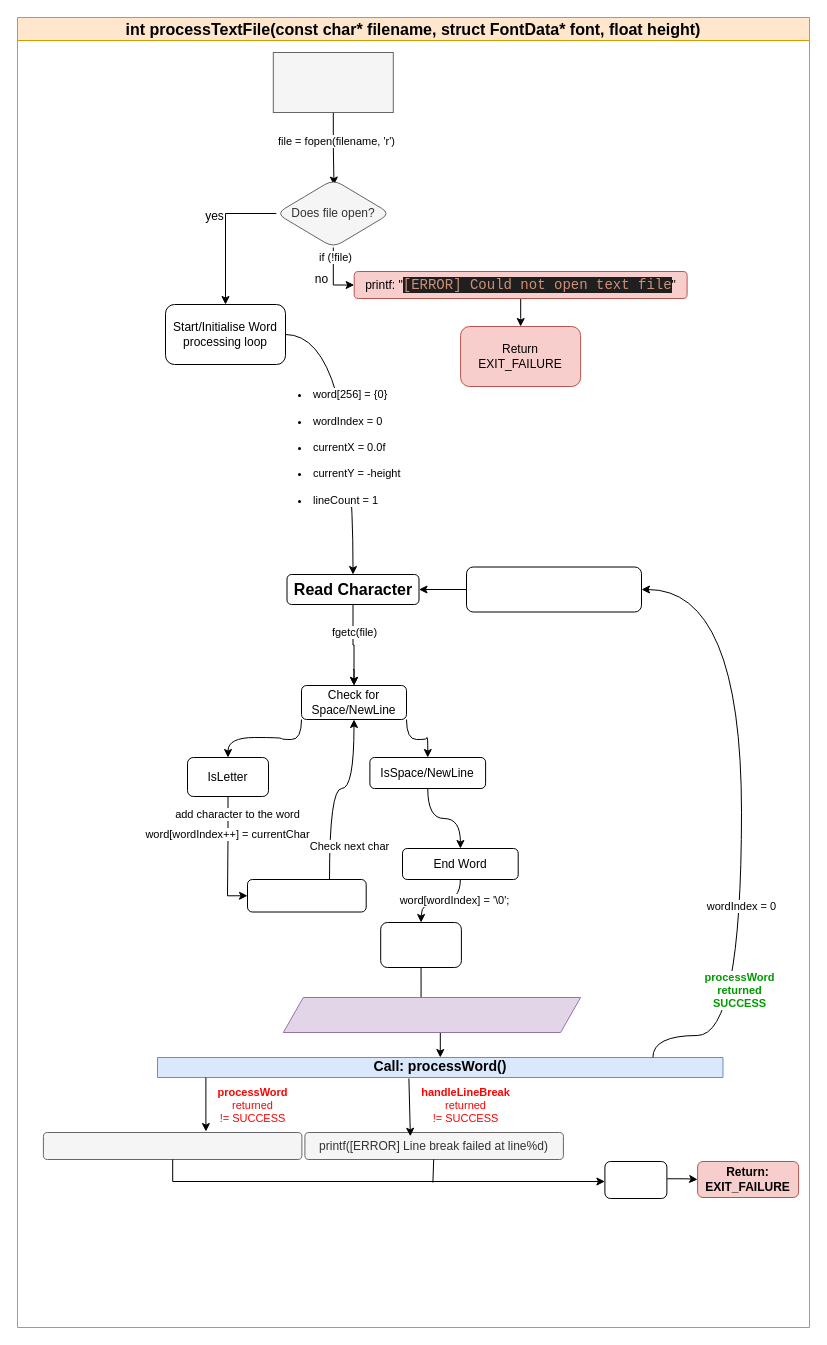
This 827x1345 diagram has some shape labels left out. Each missing label, with the centre of its shape:
"Add space for next word currentX = currentX + height" goes at (x=554, y=589).
"Close file" goes at (x=635, y=1179).
"data passed: word, fontdata, currentX, currentY, height" goes at (x=431, y=1014).
"Open 'filename.txt'" goes at (x=332, y=82).
"Pass word to processWord" goes at (x=420, y=945).
"printf([ERROR] Word processing failed for '%s')" goes at (x=172, y=1146).
"word[i] = currentChar" goes at (x=306, y=895).
